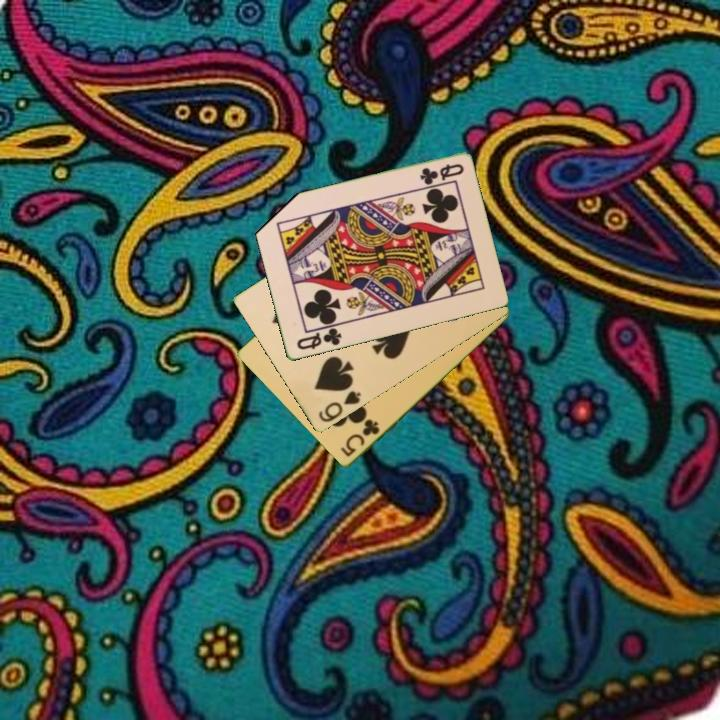5c: (337, 416, 383, 460)
6s: (315, 388, 364, 426)
Qc: (293, 324, 344, 353), (416, 160, 467, 188)
